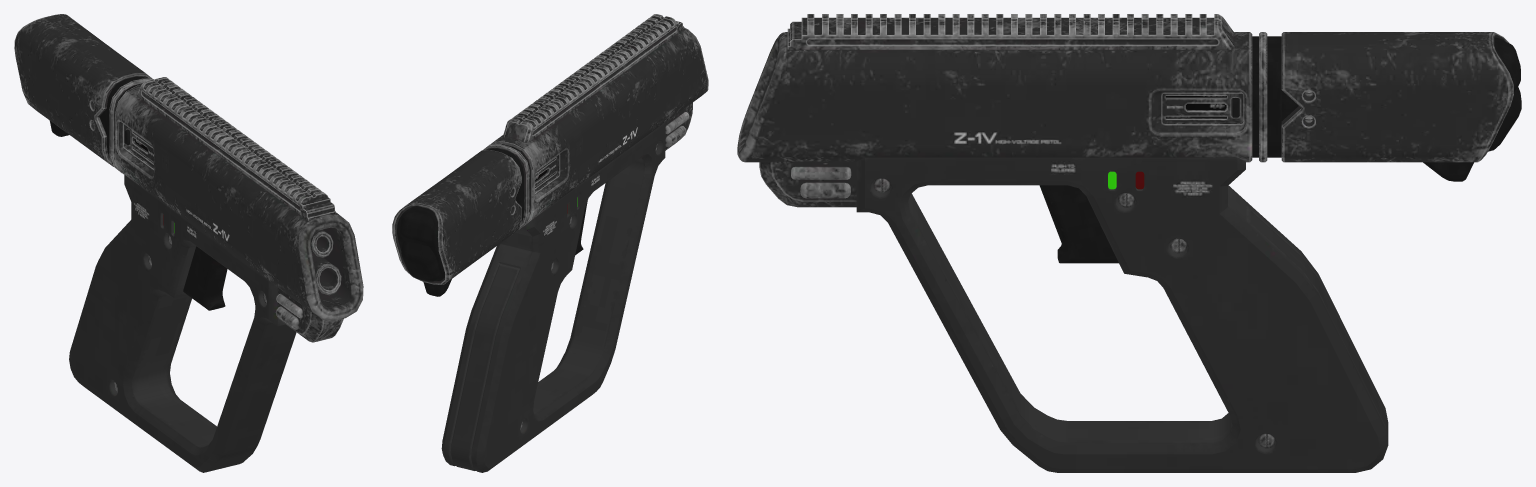
File: genesis-blaster.glb
3 views of the same model, side by side, from view 1: azimuth 30°, elevation 25°; view 2: azimuth 150°, elevation 25°; view 3: azimuth 270°, elevation 25° (orthographic). The views are drawn at different scales.
Visible parts, largest first — view 1: Object_2; view 2: Object_2; view 3: Object_2.
Boxes of the visible parts, bbox=[...] form: Object_2: bbox=[14, 14, 363, 472]; Object_2: bbox=[392, 14, 708, 472]; Object_2: bbox=[737, 14, 1521, 472].
Bounding box in the file's own units: 2 × 11.81 × 18.99.
1 material, 1 textured.
